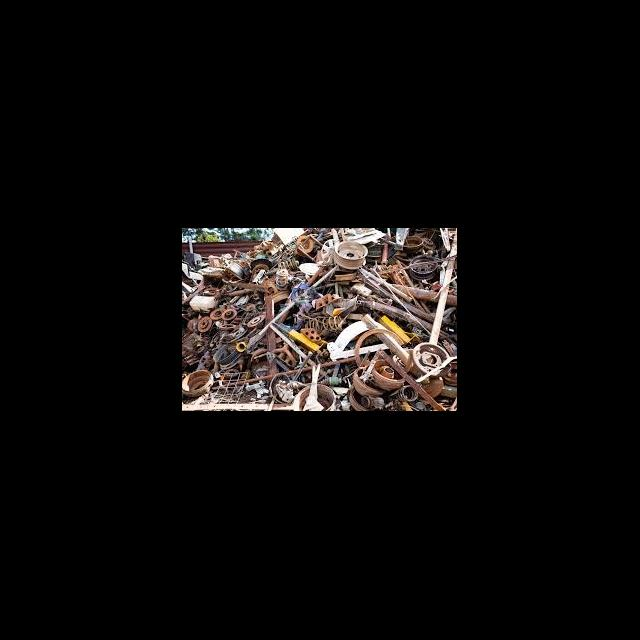metal: (406, 338, 456, 382), (364, 354, 411, 394), (330, 238, 376, 276), (264, 369, 298, 408), (348, 364, 383, 398), (182, 364, 215, 400), (402, 252, 440, 282), (218, 256, 250, 282), (262, 286, 292, 306), (244, 312, 270, 329), (192, 314, 214, 334), (203, 306, 230, 320), (220, 308, 237, 322)
